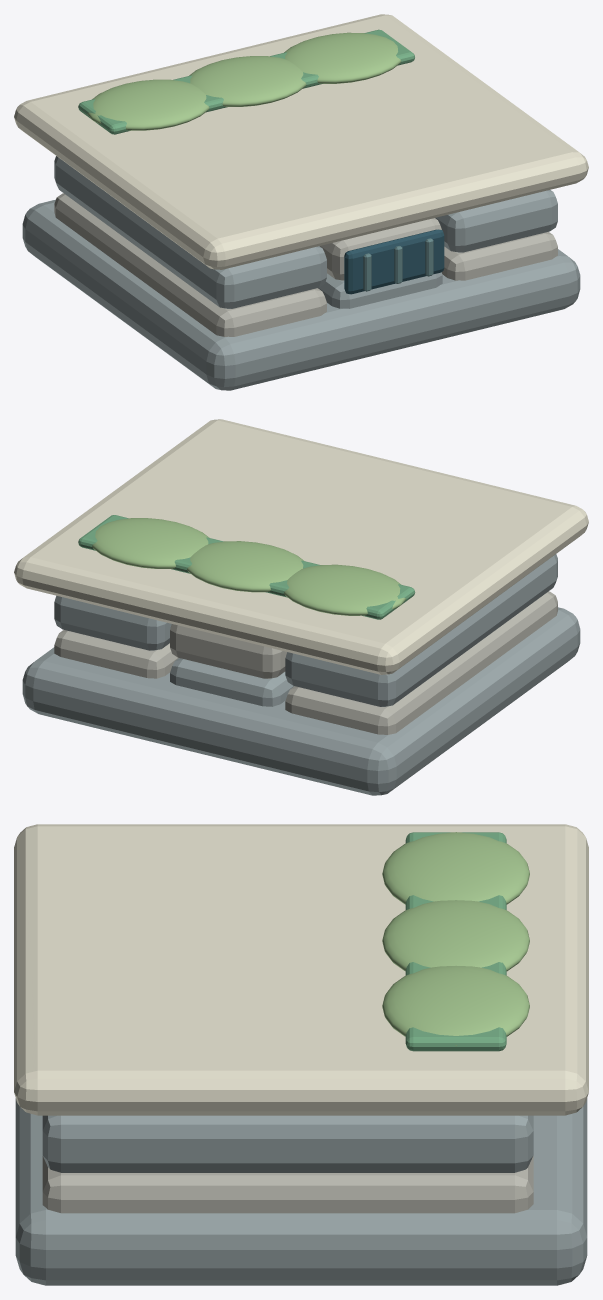
Rendered from city_wall_b.glb.
The picture shows the model from 3 angles, top to bottom: view 1: azimuth 30°, elevation 25°; view 2: azimuth 150°, elevation 25°; view 3: azimuth 270°, elevation 25°; orthographic projection. The views are drawn at different scales.
Visible parts, largest first — view 1: Batched City v2 smooth step edges, Batched City v2 warm grey retaining stone, Batched City v2 sunlit terrace leaves, Batched City v2 riverstone paving, Batched City v2 deep window reveals, Batched City v2 terrace leaves, Batched City v2 iron and rail; view 2: Batched City v2 smooth step edges, Batched City v2 warm grey retaining stone, Batched City v2 riverstone paving, Batched City v2 sunlit terrace leaves, Batched City v2 terrace leaves; view 3: Batched City v2 smooth step edges, Batched City v2 warm grey retaining stone, Batched City v2 sunlit terrace leaves, Batched City v2 riverstone paving, Batched City v2 terrace leaves.
Part boxes in pixels (x1,y1,x2,y2): Batched City v2 smooth step edges: [14, 14, 588, 269]; Batched City v2 warm grey retaining stone: [22, 156, 580, 390]; Batched City v2 sunlit terrace leaves: [87, 32, 401, 130]; Batched City v2 riverstone paving: [54, 193, 557, 336]; Batched City v2 deep window reveals: [344, 229, 444, 294]; Batched City v2 terrace leaves: [78, 29, 414, 134]; Batched City v2 iron and rail: [363, 238, 433, 291]; Batched City v2 smooth step edges: [14, 419, 588, 674]; Batched City v2 warm grey retaining stone: [22, 554, 580, 795]; Batched City v2 riverstone paving: [54, 591, 557, 734]; Batched City v2 sunlit terrace leaves: [92, 518, 405, 615]; Batched City v2 terrace leaves: [78, 515, 415, 619]; Batched City v2 smooth step edges: [14, 824, 588, 1115]; Batched City v2 warm grey retaining stone: [15, 1098, 587, 1285]; Batched City v2 sunlit terrace leaves: [382, 832, 529, 1046]; Batched City v2 riverstone paving: [42, 1156, 533, 1213]; Batched City v2 terrace leaves: [405, 832, 506, 1051].
Bounding box in the file's own units: 1.86 × 0.79 × 1.71.
